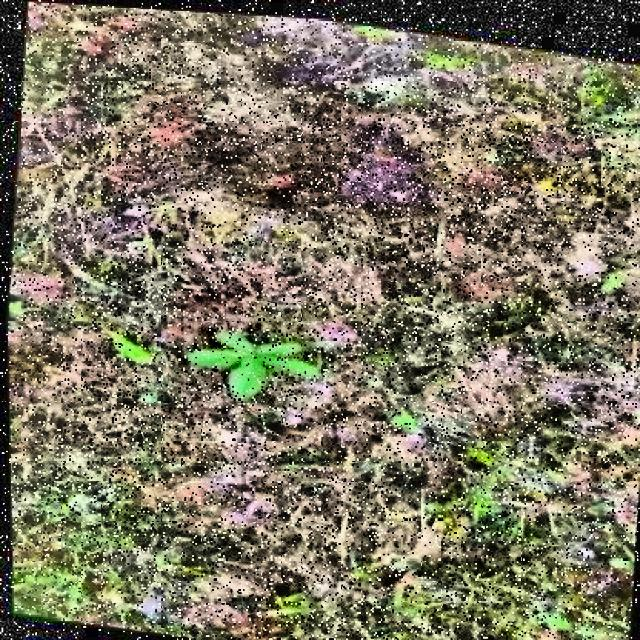Weeds: (184, 312, 322, 406)
